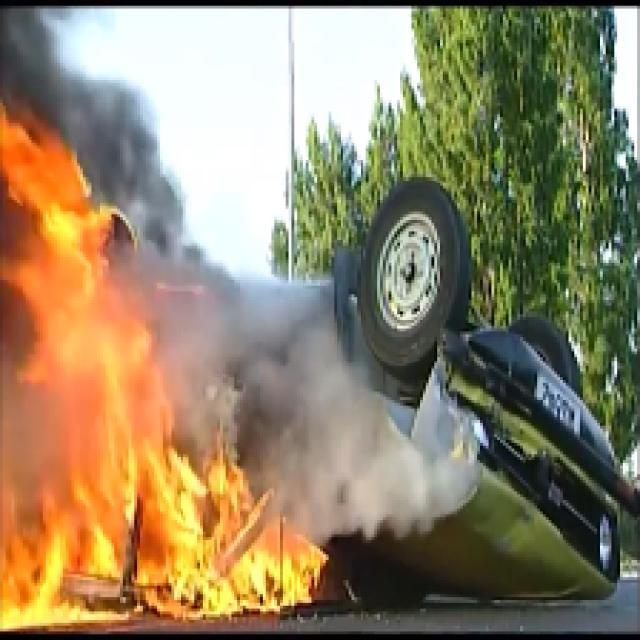Fire: (3, 111, 326, 632)
Smoke: (243, 288, 440, 534), (2, 5, 92, 109)
